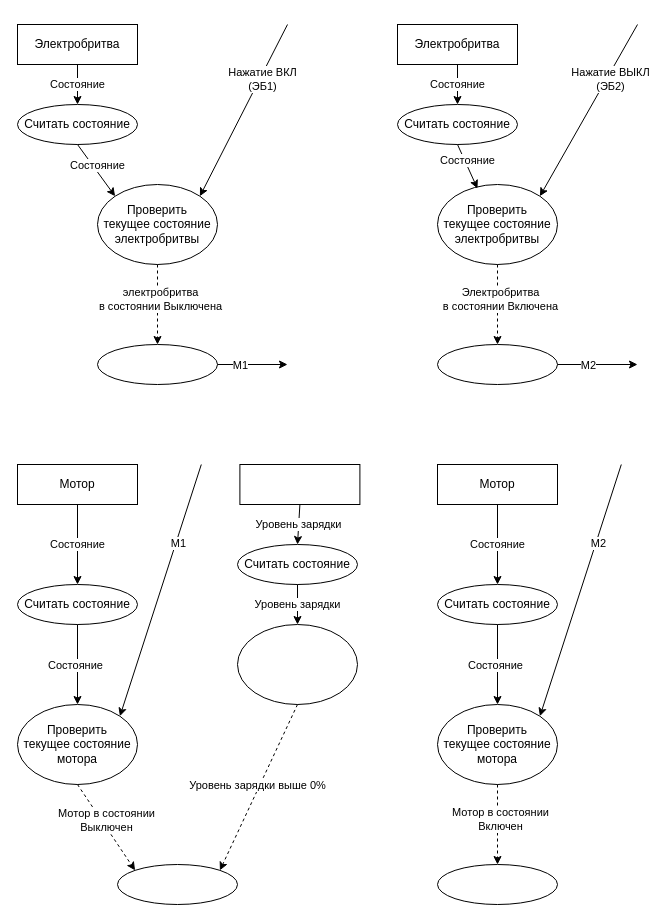
This 667x922 diagram has some shape labels left out. Here are the shapes that lost their labels. From the top down, the centre of each, then its label:
At [157,364]: "Включить Электробритву".
At [497,364]: "Выключить Электробритву".
At [299,484]: "Аккумулятор".
At [297,664]: "Проверить текущее состояние аккумулятора".
At [177,884]: "Включить мотор".
At [497,884]: "Выключить мотор".
